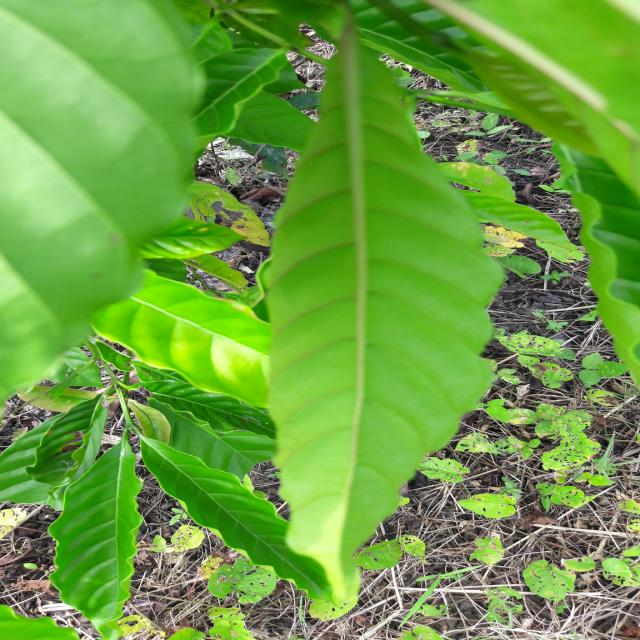Sanas: (257, 7, 507, 622)
